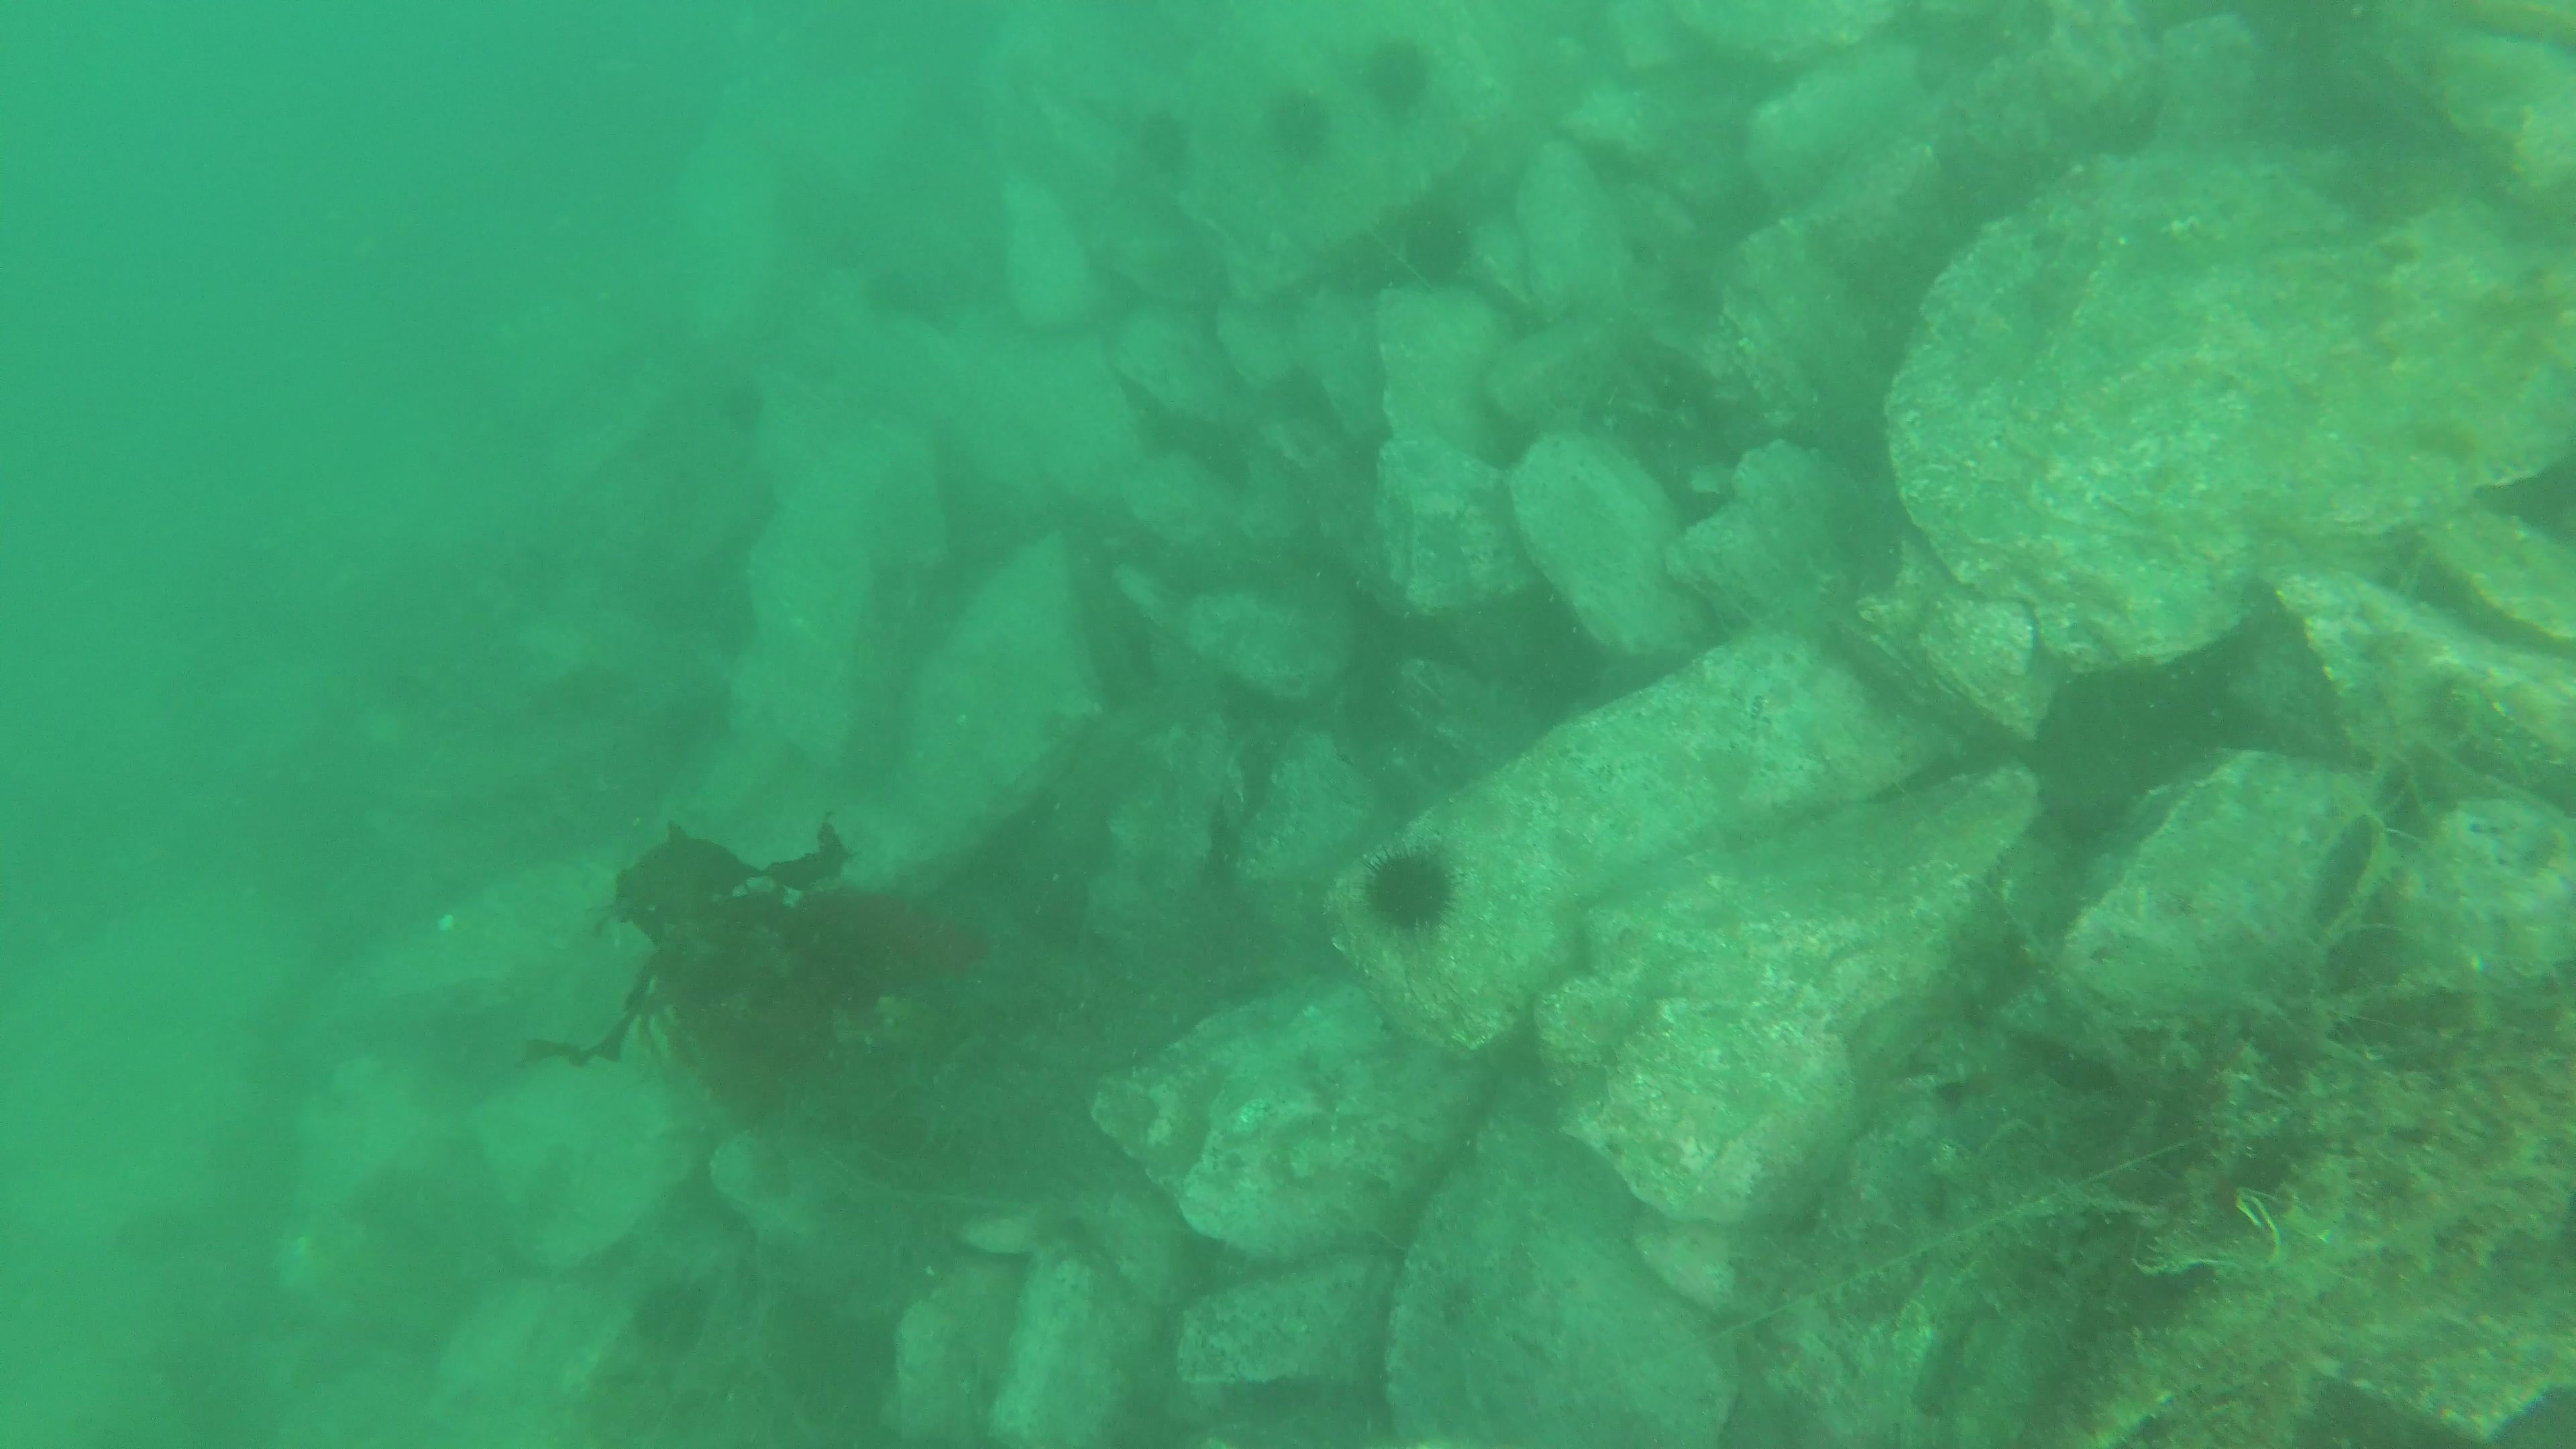echinus: (1345, 840, 1468, 939), (1263, 87, 1341, 166), (1357, 34, 1440, 106), (1123, 111, 1201, 173)
